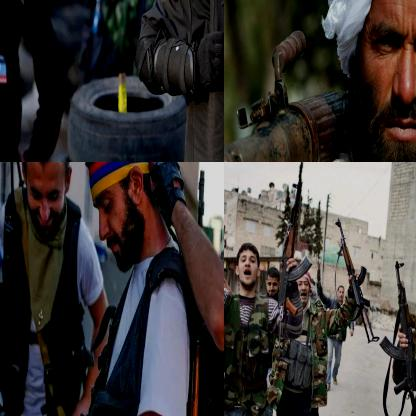rifle: (224, 28, 352, 161), (179, 167, 213, 415), (332, 214, 379, 345), (377, 257, 415, 415), (276, 162, 314, 316)
